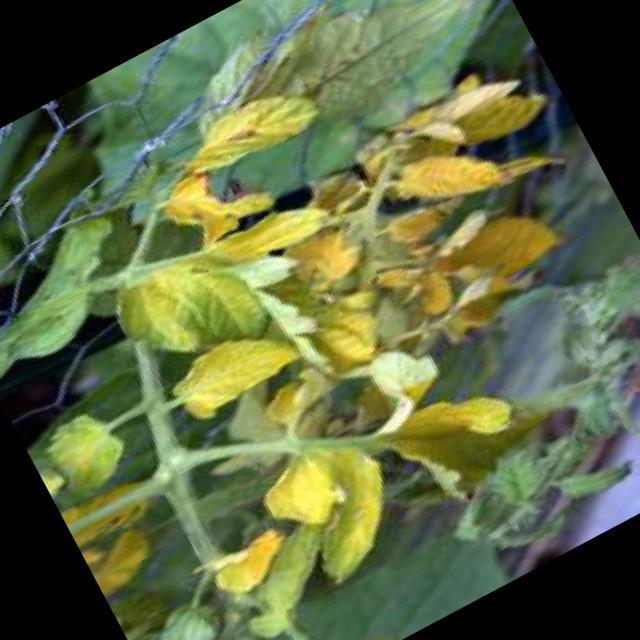Tomato yellow virus leaf: (76, 0, 527, 244), (96, 220, 288, 409), (0, 174, 162, 377), (242, 411, 391, 546)
